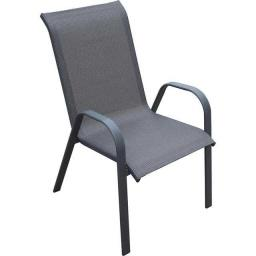Chair: (40, 0, 216, 256)
